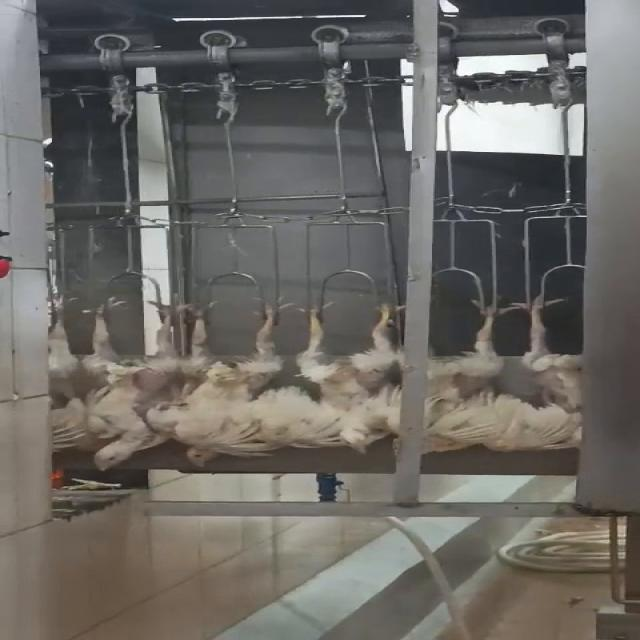chicken: (174, 291, 299, 469), (84, 292, 205, 474), (294, 291, 414, 456), (414, 291, 515, 457), (499, 290, 586, 455), (35, 294, 103, 458)
